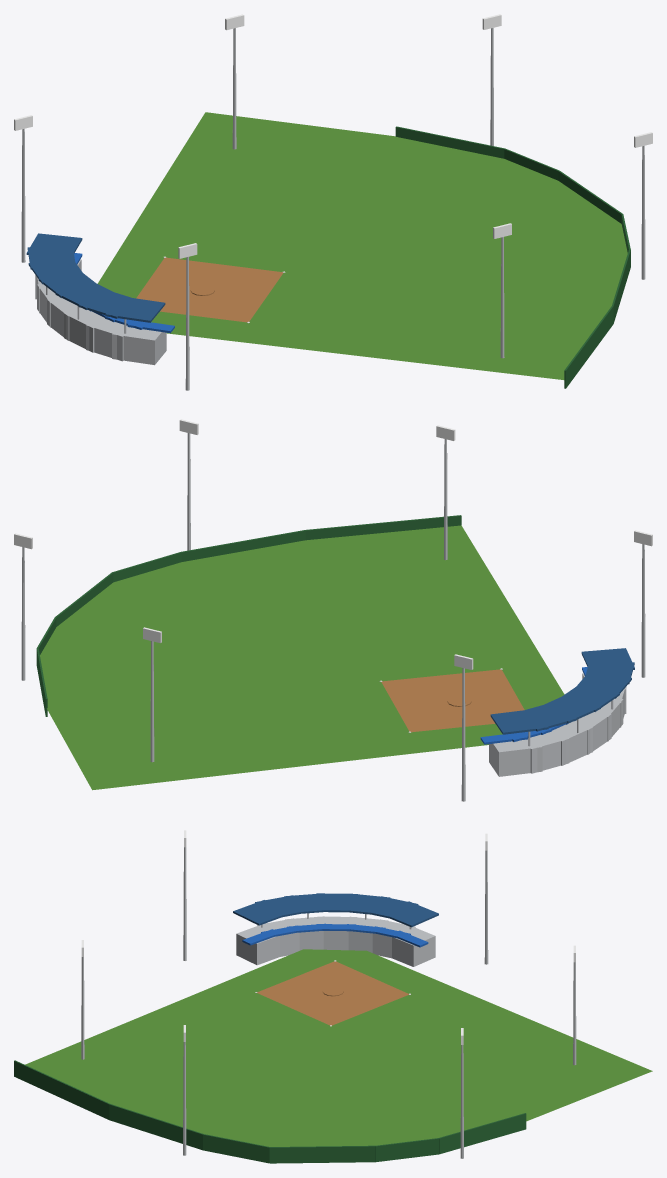
Rendered from ballpark_dem.glb.
3 renders of one model, top to bottom at view 1: azimuth 30°, elevation 25°; view 2: azimuth 150°, elevation 25°; view 3: azimuth 270°, elevation 25°, orthographic. The views are drawn at different scales.
Parts seen in each view (by area): view 1: ballpark_dem_lod0; view 2: ballpark_dem_lod0; view 3: ballpark_dem_lod0.
Part boxes in pixels (box(x1,y1,x2,y2)): ballpark_dem_lod0: box(14, 14, 652, 390); ballpark_dem_lod0: box(14, 419, 652, 801); ballpark_dem_lod0: box(14, 830, 652, 1163).
Size of what is drawn, in the model's own units: 137 by 39.69 by 161.
